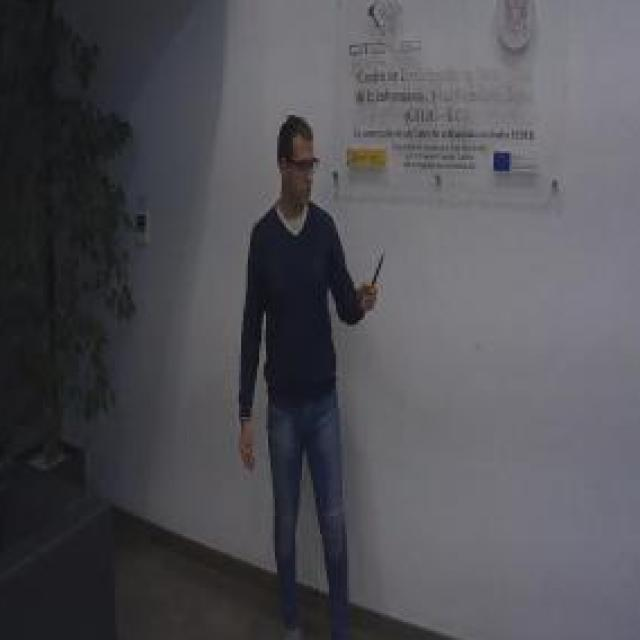knife: (362, 246, 388, 310)
